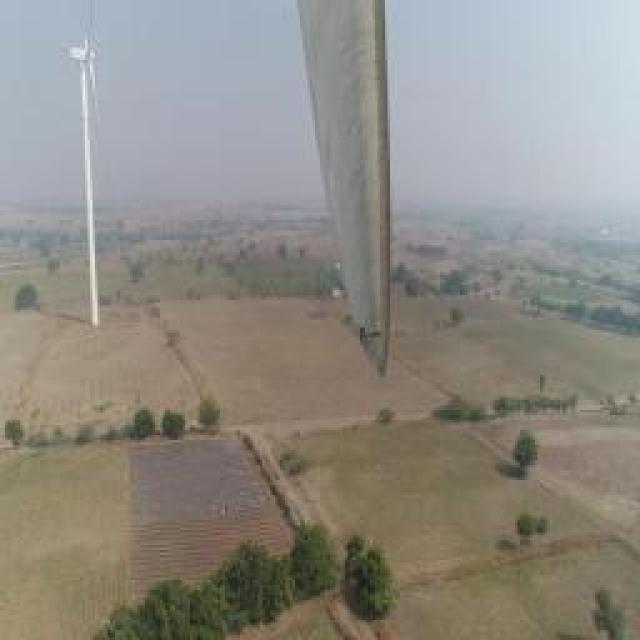Dirt: (297, 0, 394, 378)
Pin Hole: (355, 326, 384, 342)
